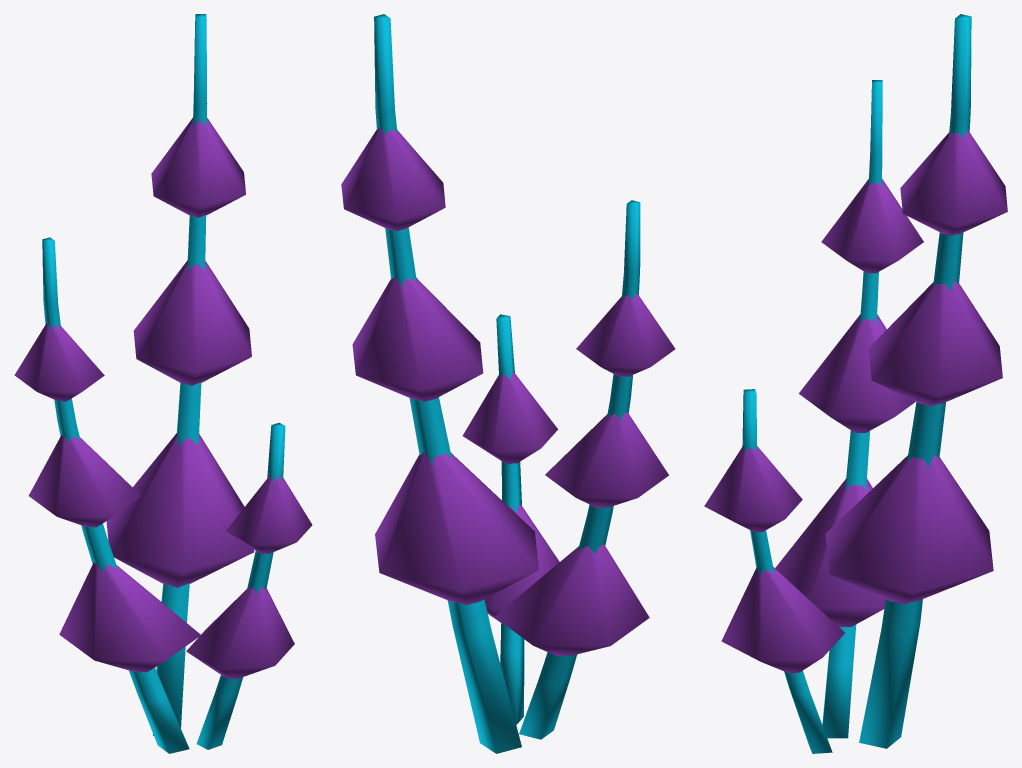
File: SciFiPlant.fbx
The picture shows the model from 3 angles, left to right: view 1: azimuth 30°, elevation 25°; view 2: azimuth 150°, elevation 25°; view 3: azimuth 270°, elevation 25°; orthographic projection. The views are drawn at different scales.
Visible parts, largest first — view 1: scifi-plant-baggy-big; view 2: scifi-plant-baggy-big; view 3: scifi-plant-baggy-big.
Boxes of the visible parts, box(x1,y1,x2,y2) form: scifi-plant-baggy-big: box(14, 14, 312, 753); scifi-plant-baggy-big: box(341, 14, 675, 753); scifi-plant-baggy-big: box(704, 14, 1007, 753).
Bounding box in the file's own units: 76.15 × 191 × 68.98.
1 material, 1 textured.
